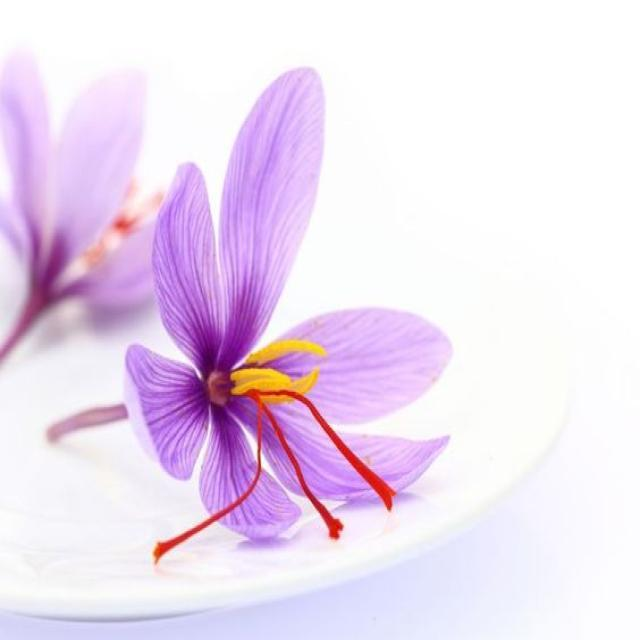Flower: (120, 67, 456, 540)
stigma: (140, 396, 266, 566), (260, 388, 404, 518), (254, 392, 348, 548)
